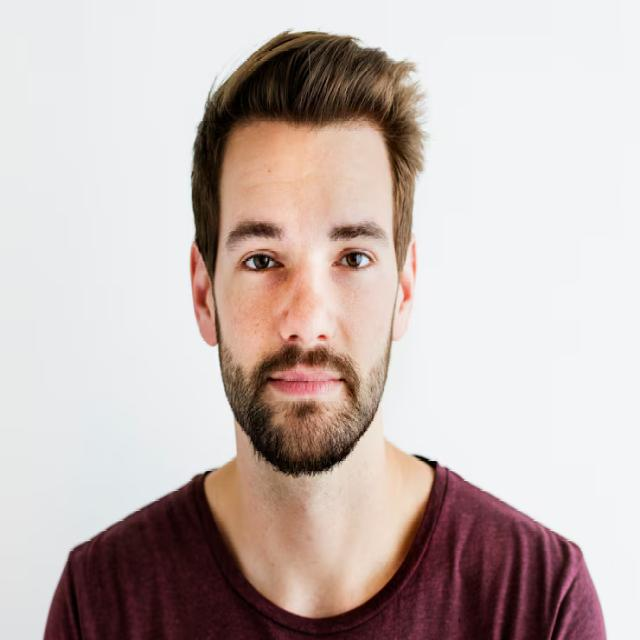piel: (188, 115, 432, 618)
